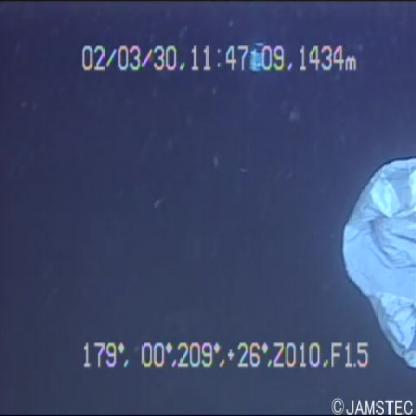Rác: (327, 129, 416, 373)
